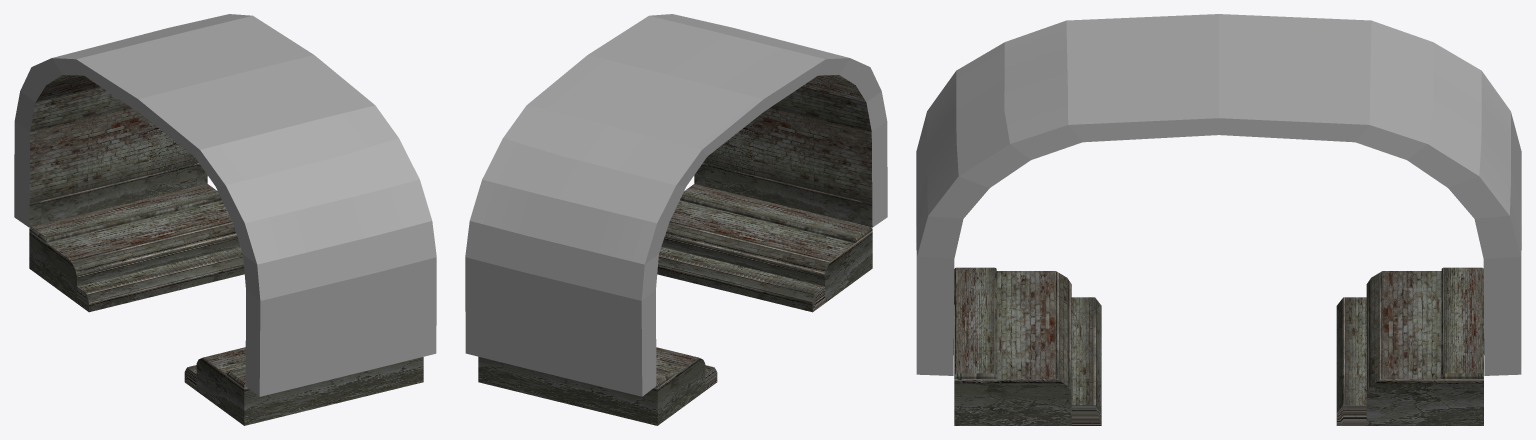
The model's file is StraightWithSideWalk 1.fbx.
3 views of the same model, side by side, from view 1: azimuth 30°, elevation 25°; view 2: azimuth 150°, elevation 25°; view 3: azimuth 270°, elevation 25° (orthographic). The views are drawn at different scales.
Parts seen in each view (by area): view 1: polySurface161; view 2: polySurface161; view 3: polySurface161.
Boxes of the visible parts, x1,y1,x2,y2 form: polySurface161: (14,14,436,425); polySurface161: (465,14,887,425); polySurface161: (916,14,1521,425).
Bounding box in the file's own units: 4.68 × 6.2 × 11.08.
3 materials, 1 textured.
